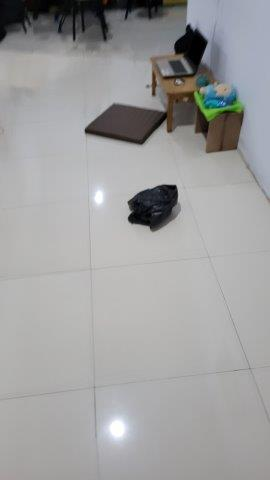plastik: (126, 183, 183, 231)
